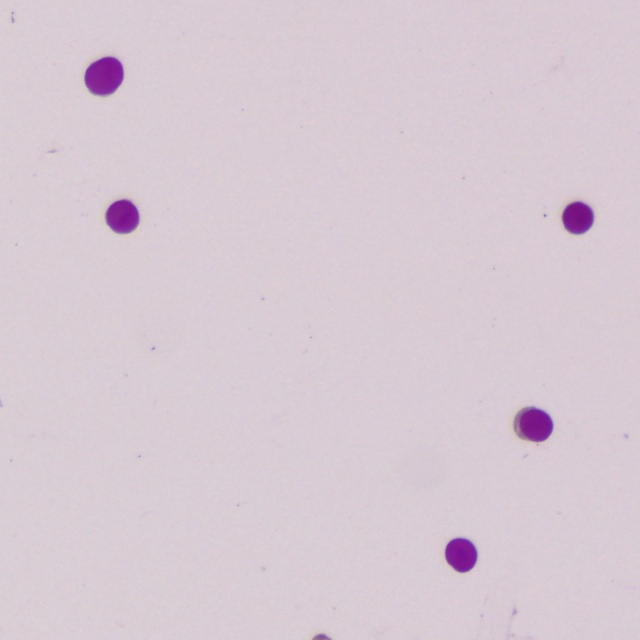viable: (85, 58, 123, 94), (517, 409, 552, 441), (107, 200, 138, 233), (446, 539, 477, 572), (563, 202, 593, 234)
